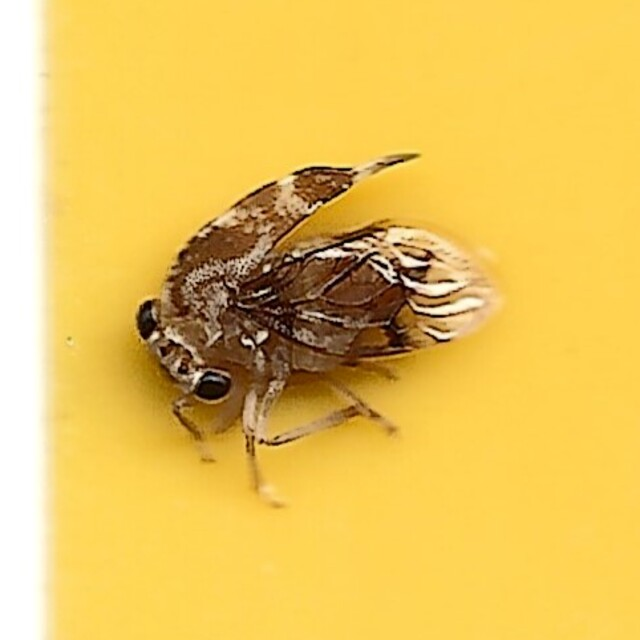Hemiptera: (133, 144, 507, 496)
